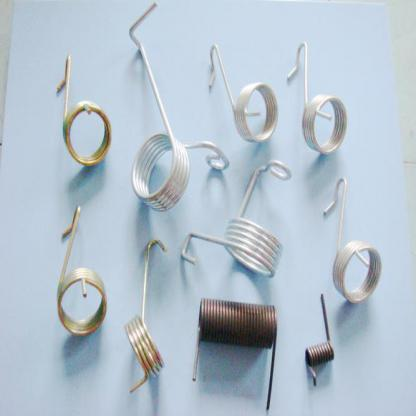FOD: (126, 0, 232, 213), (180, 158, 294, 280), (190, 298, 280, 413), (322, 173, 383, 305), (53, 204, 110, 338), (207, 40, 280, 144), (122, 234, 169, 395), (286, 39, 348, 155), (55, 53, 113, 168), (303, 293, 337, 388)
